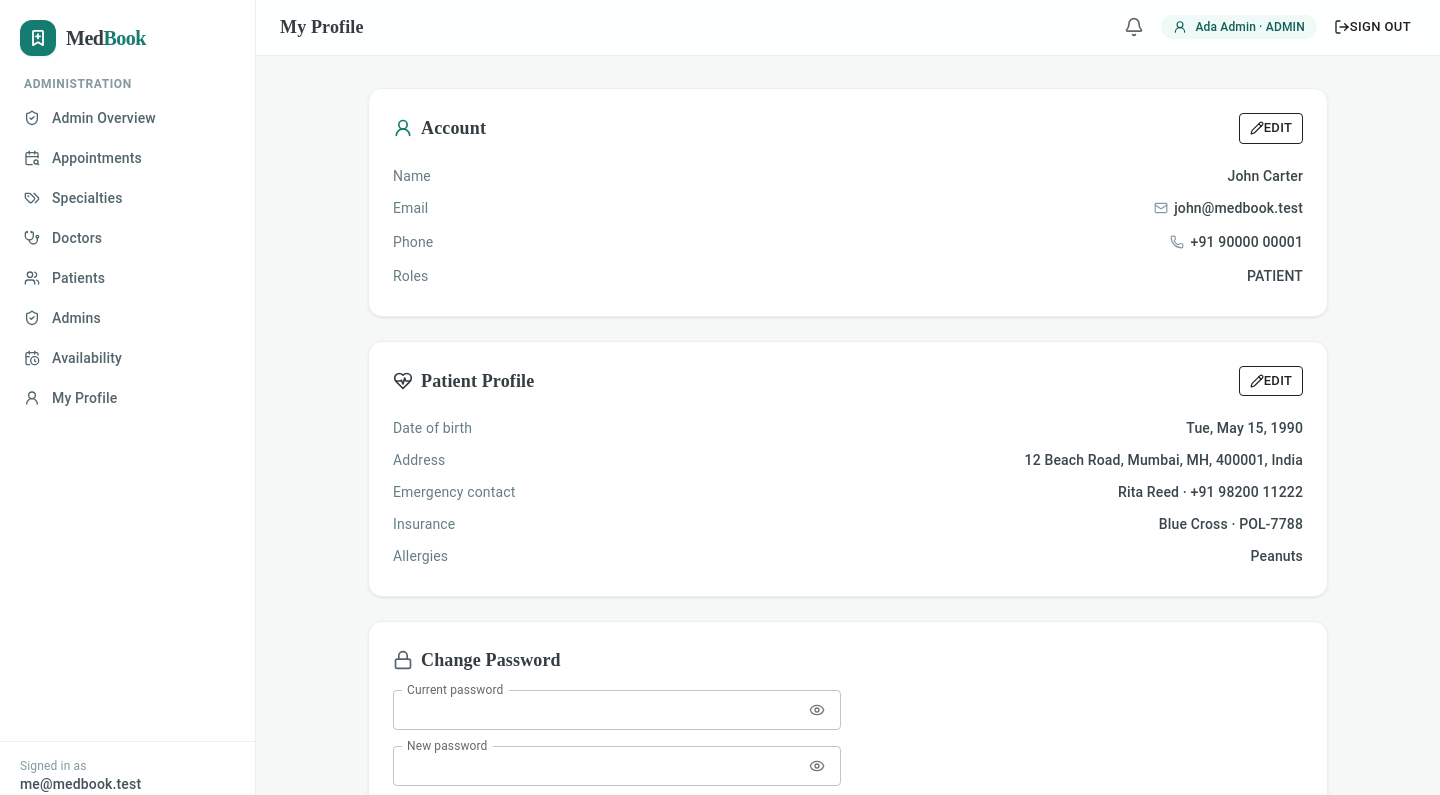
Test: ProfilePage — patient profile editing › edits patient fields and submits the full form
The image size is (1440, 795).
Click the button "Edit" in the row of "Patient Profile" at (1271,381), box [1239,366,1303,396]
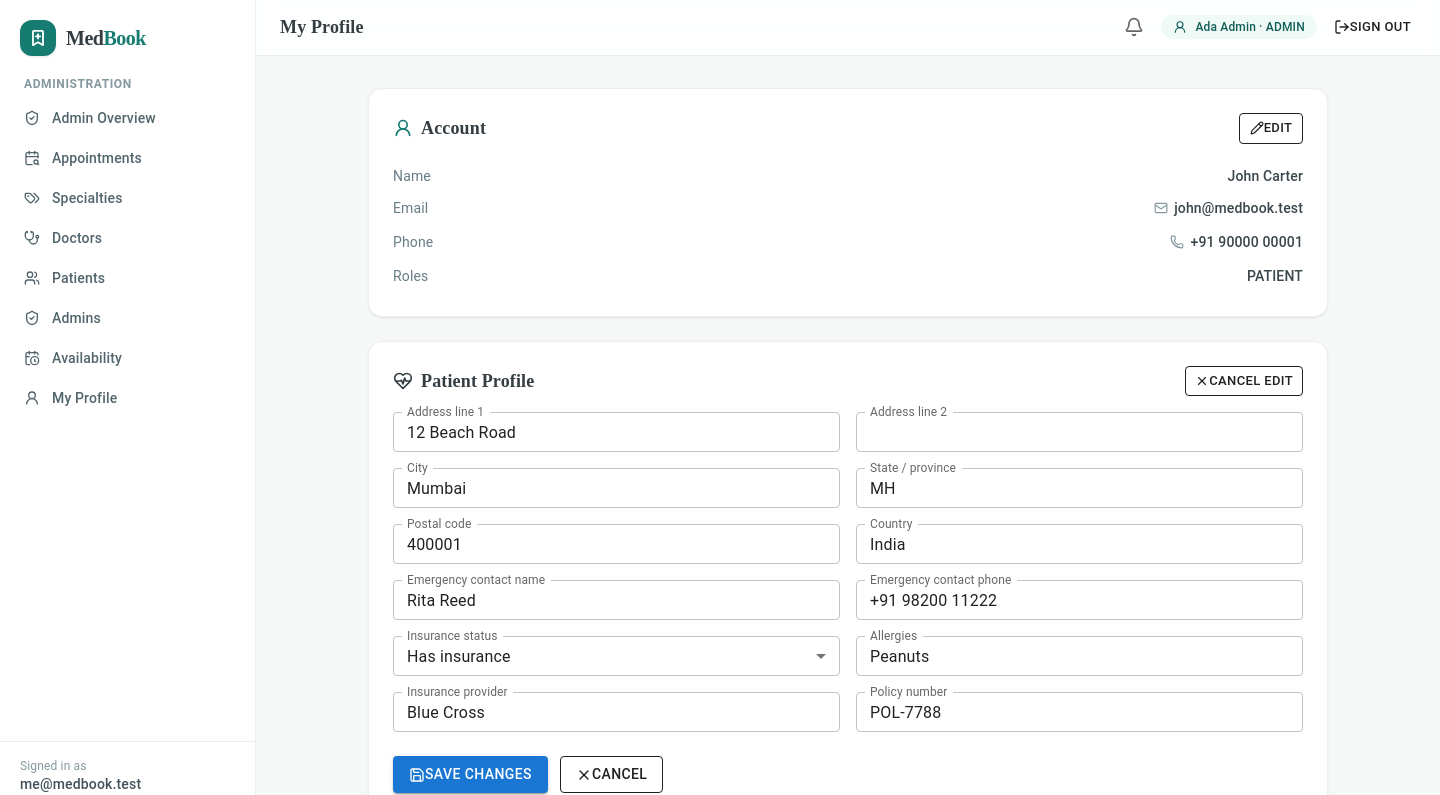
Replace the text in the field labelled "City" with "Pune" at (616,488), box [393,468,840,508]
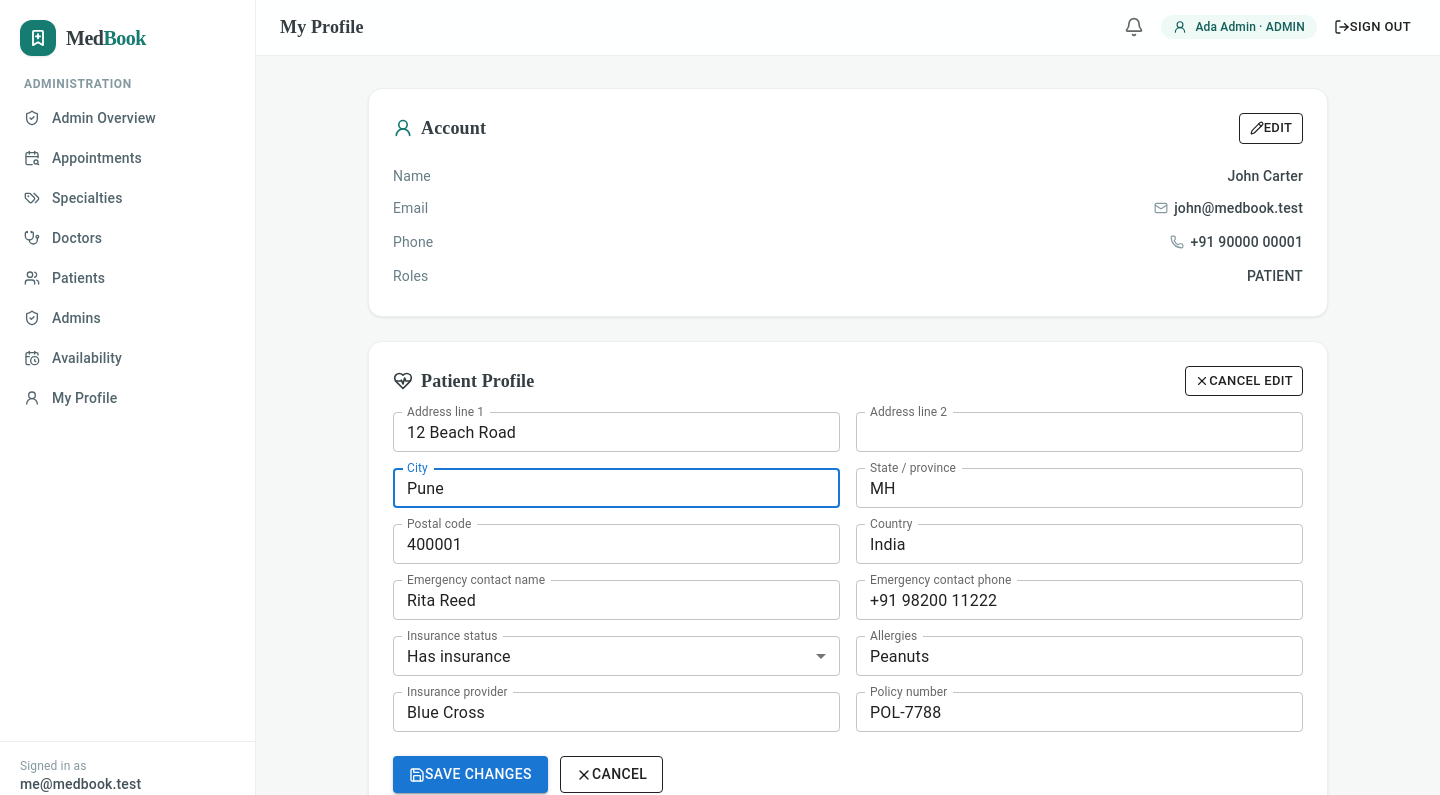
Press the mouse on the dropdown named "Insurance status" at (459,656), box [407,647,511,666]
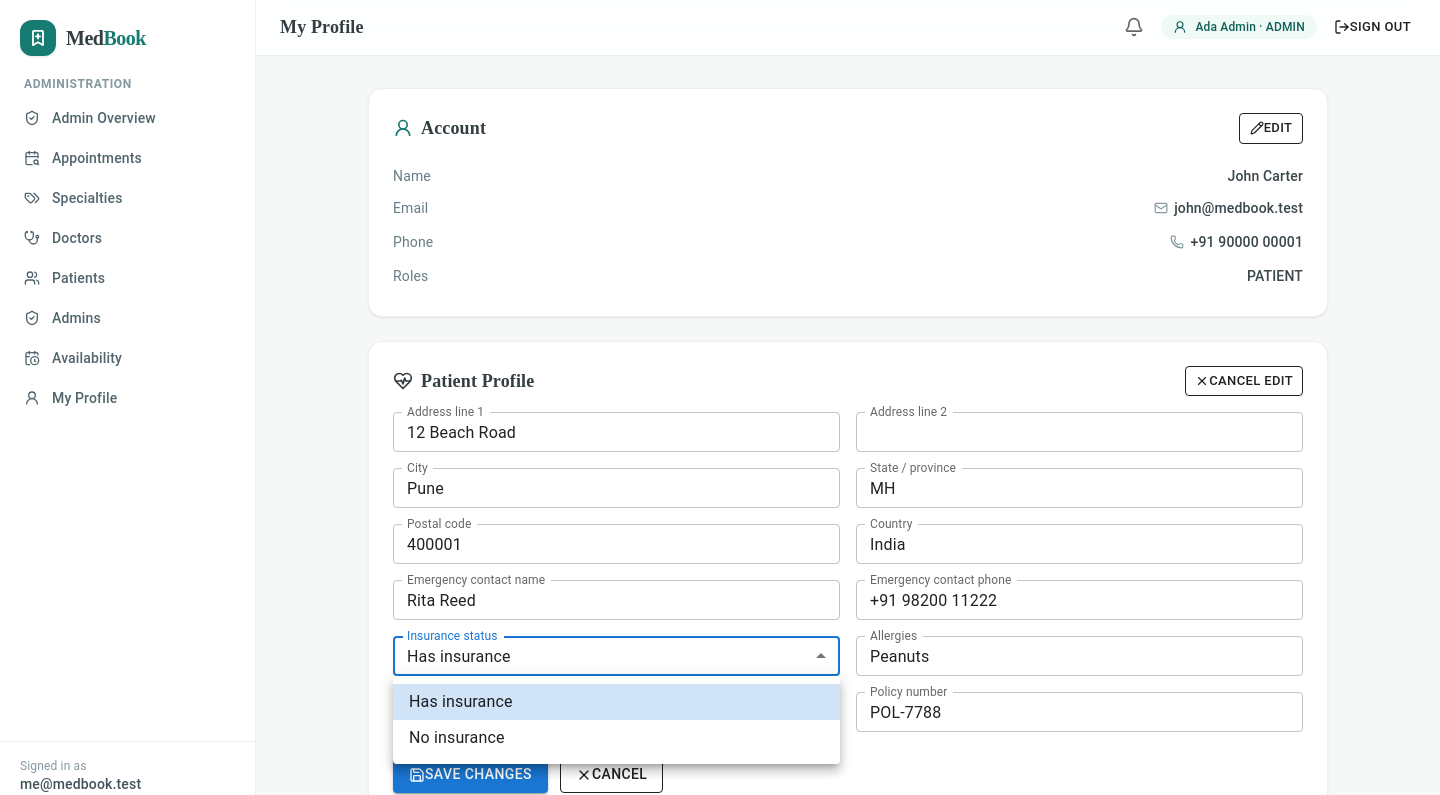
Click the option "No insurance" at (457,738), box [409,728,505,747]
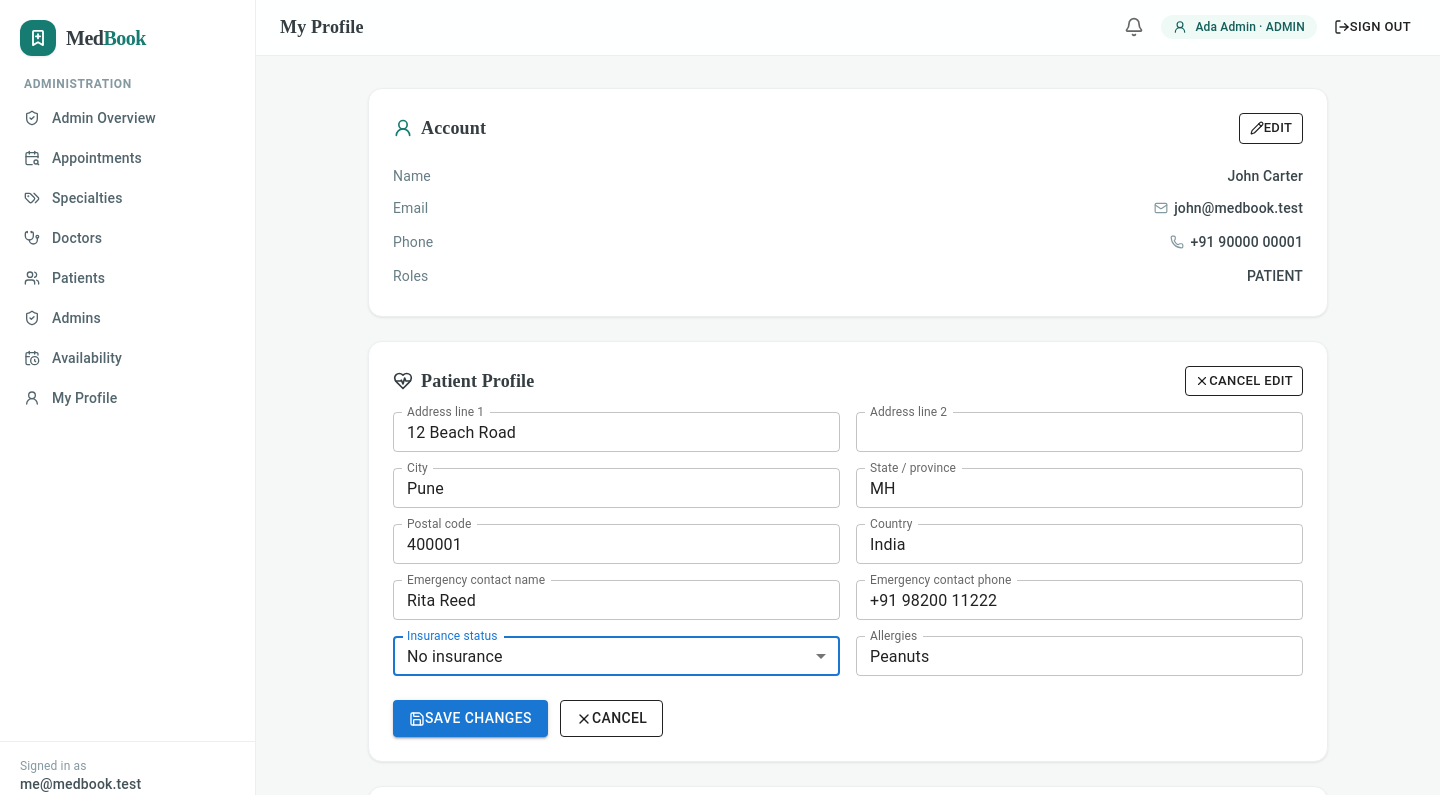
Click the button "Save Changes" at (470,719), box [393,700,548,737]
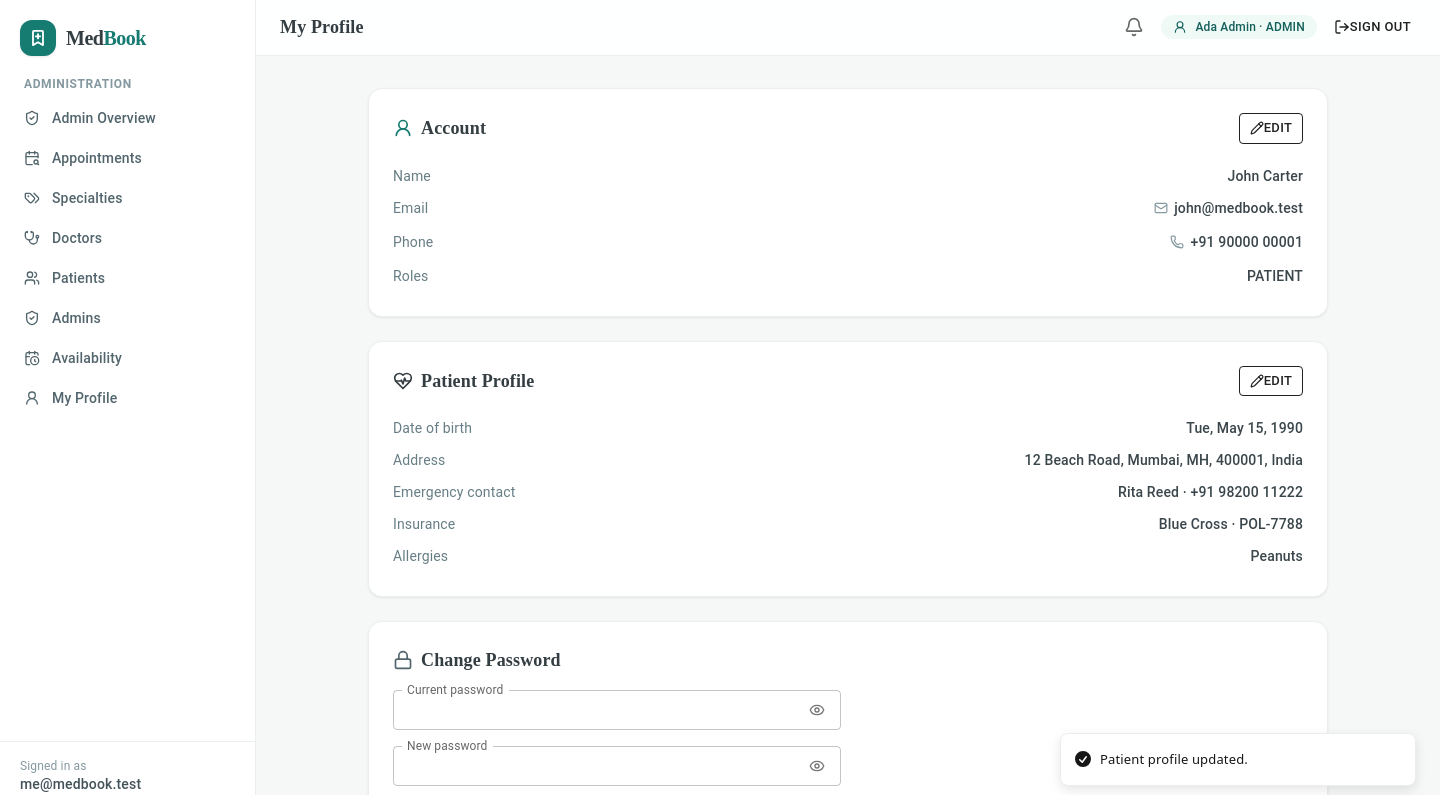
Now the text "Patient profile updated." is shown, box [1100,750,1248,769]
